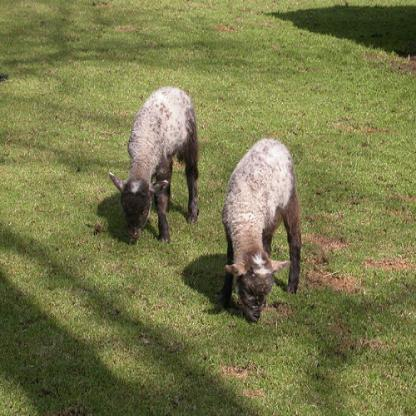sheep: (220, 136, 300, 325), (109, 85, 200, 244)
